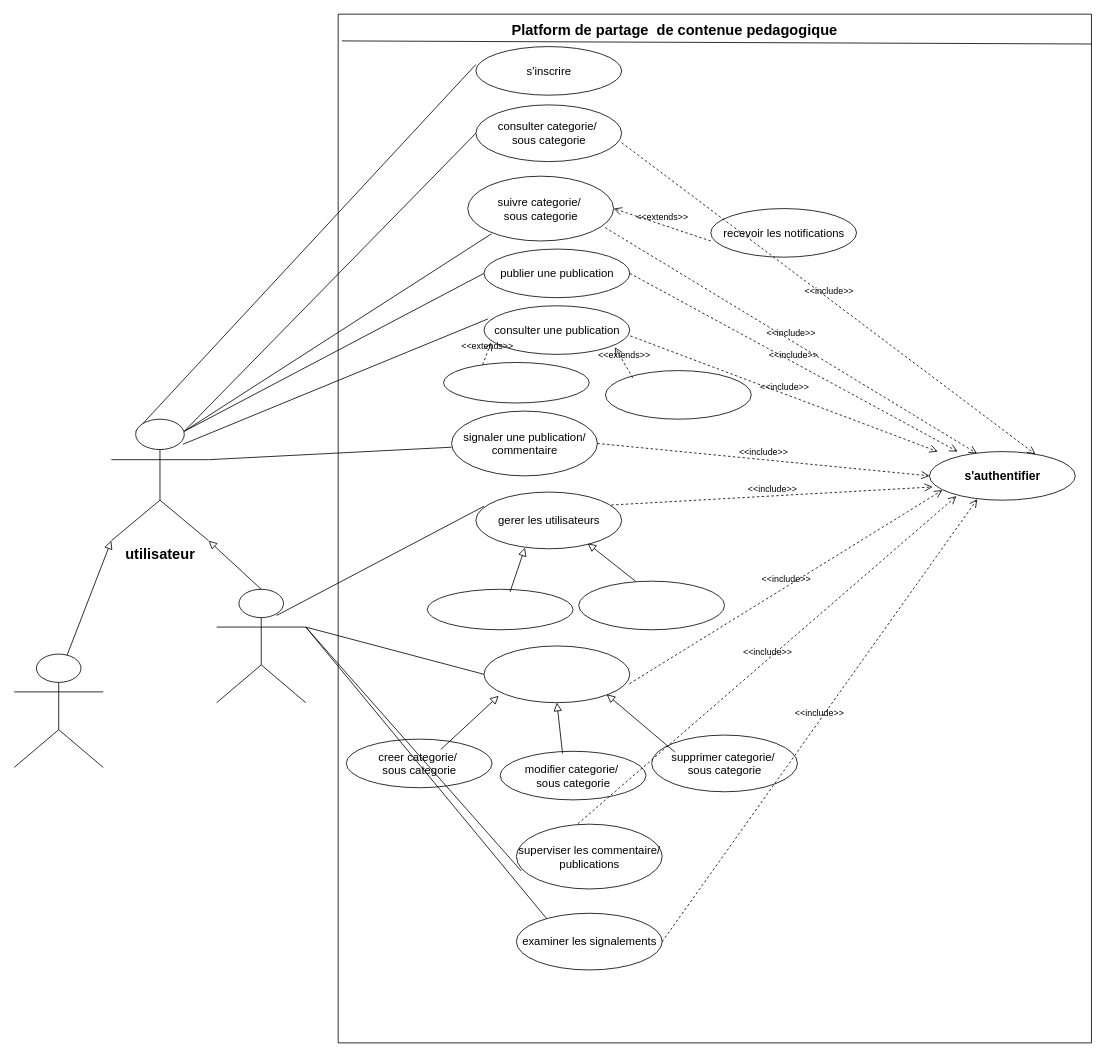
This 1106x1057 diagram has some shape labels left out. The centre of each missing label's shape, as x and y in pixels:
"ajouter un commentaire" goes at [516,382].
"enseignat" goes at [261,645].
"etudiant" goes at [58,710].
"gerer les categories/ sous categories" goes at [556,674].
"modifier les utilisaters" goes at [651,605].
"noter une publication" goes at [678,394].
"supprimer les utilisateurs" goes at [499,609].
